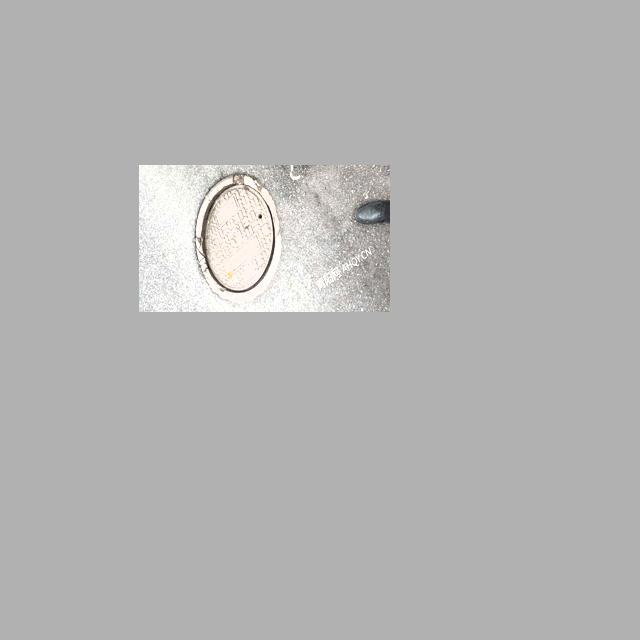circle: (183, 173, 287, 301)
